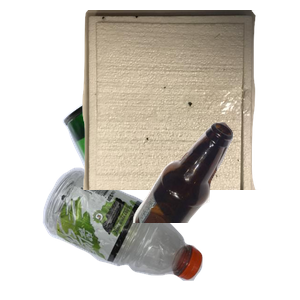glass: (130, 120, 300, 300)
metal: (60, 48, 300, 228)
plastic: (40, 165, 235, 300)
trash: (80, 10, 300, 190)
